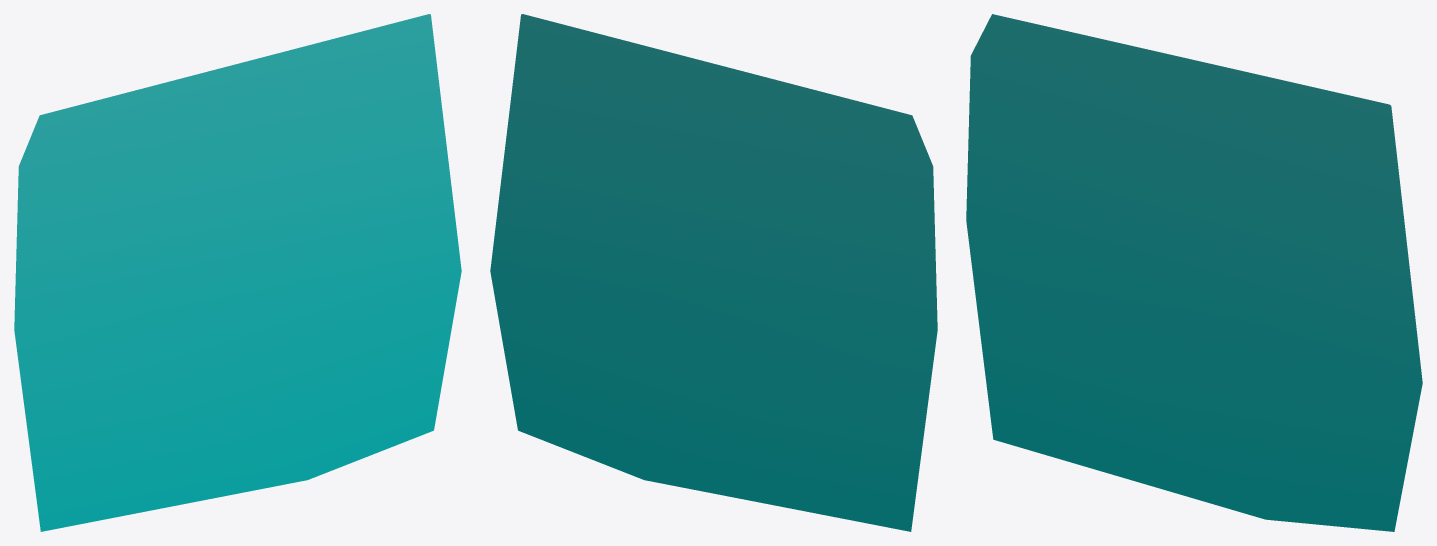
The model's file is Boxwood_wfypfa3ha_Low_wfypfa3ha_VarF_LOD3.fbx.
3 renders of one model, left to right at view 1: azimuth 30°, elevation 25°; view 2: azimuth 150°, elevation 25°; view 3: azimuth 330°, elevation 25°, orthographic. The views are drawn at different scales.
Visible parts, largest first — view 1: _nffx_VarF_LOD5; view 2: _nffx_VarF_LOD5; view 3: _nffx_VarF_LOD5.
Boxes of the visible parts, left/top/right/bottom form: _nffx_VarF_LOD5: left=14, top=14, right=461, bottom=531; _nffx_VarF_LOD5: left=490, top=14, right=937, bottom=531; _nffx_VarF_LOD5: left=966, top=14, right=1422, bottom=531.
Size of the model in its own units: 62.83 by 58.58 by 0.
